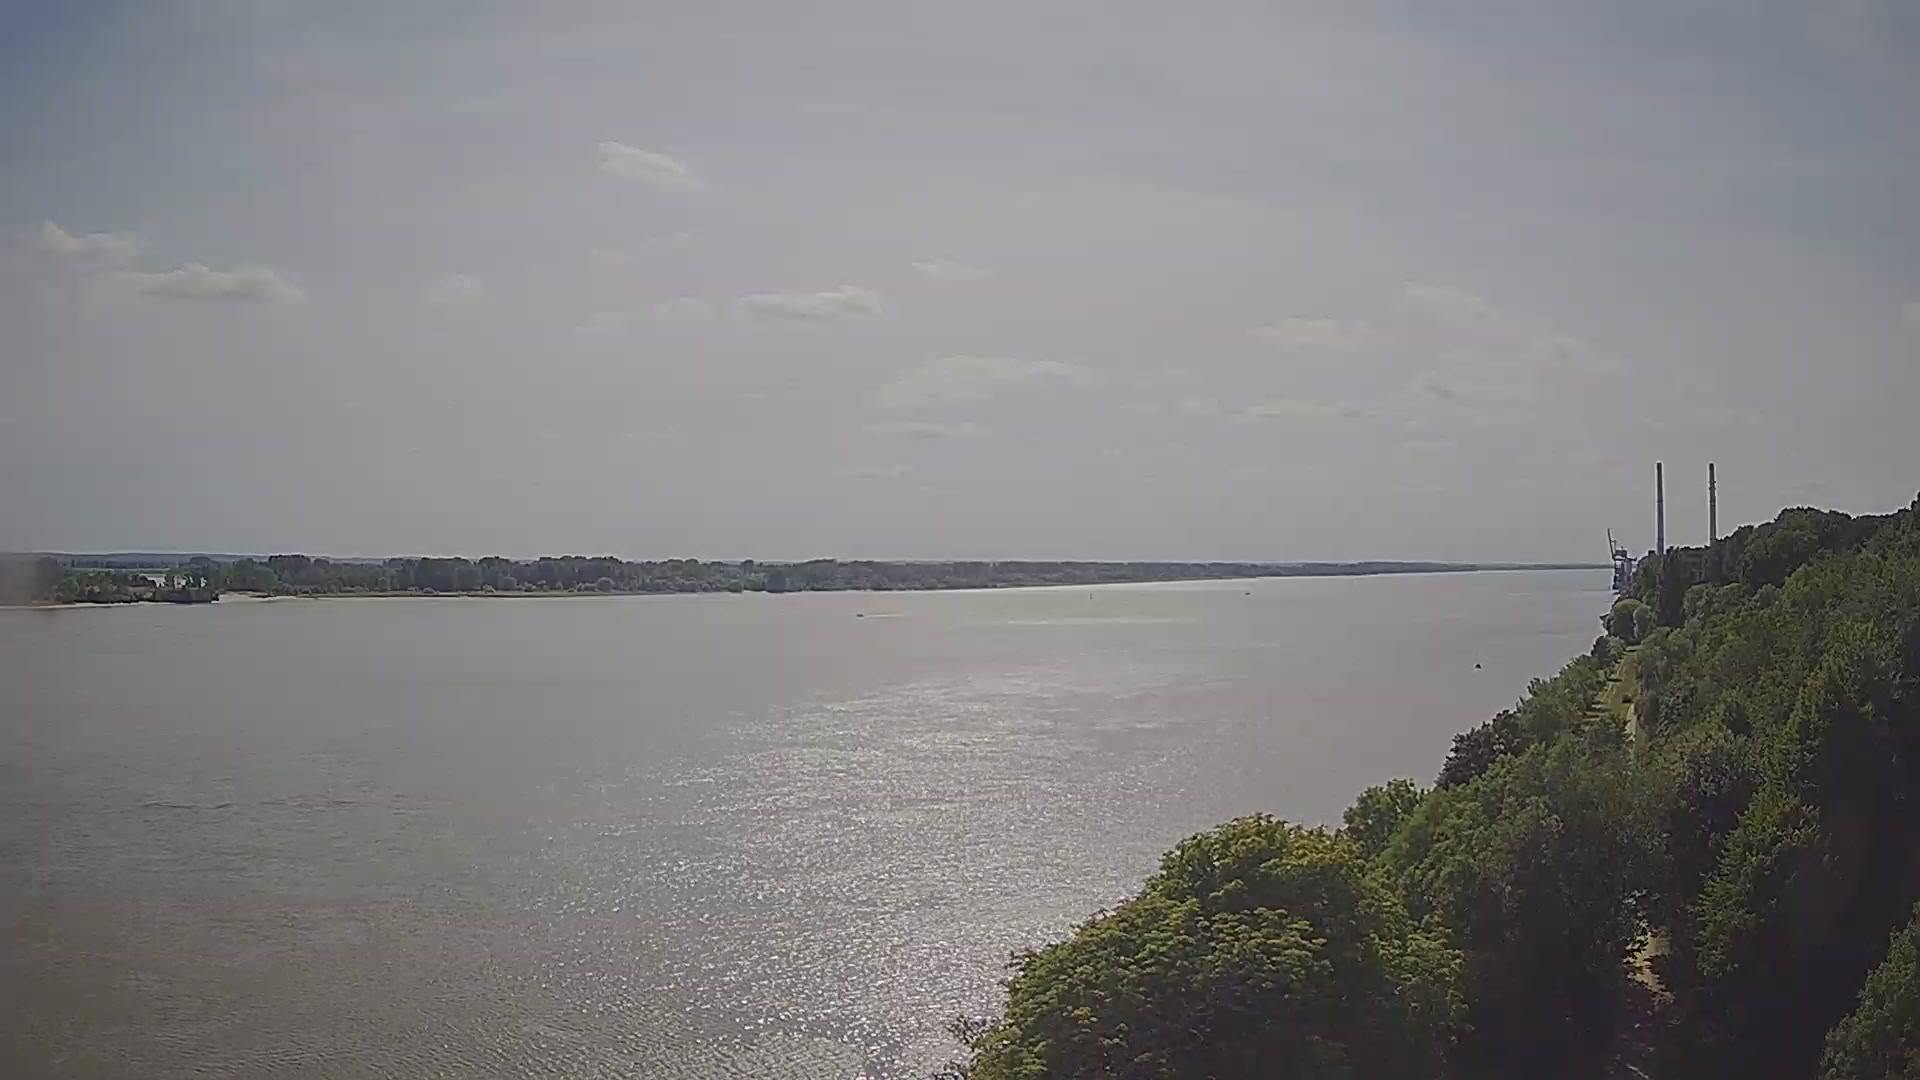sea: (856, 611, 864, 617), (1476, 662, 1482, 669), (1245, 591, 1251, 595)
